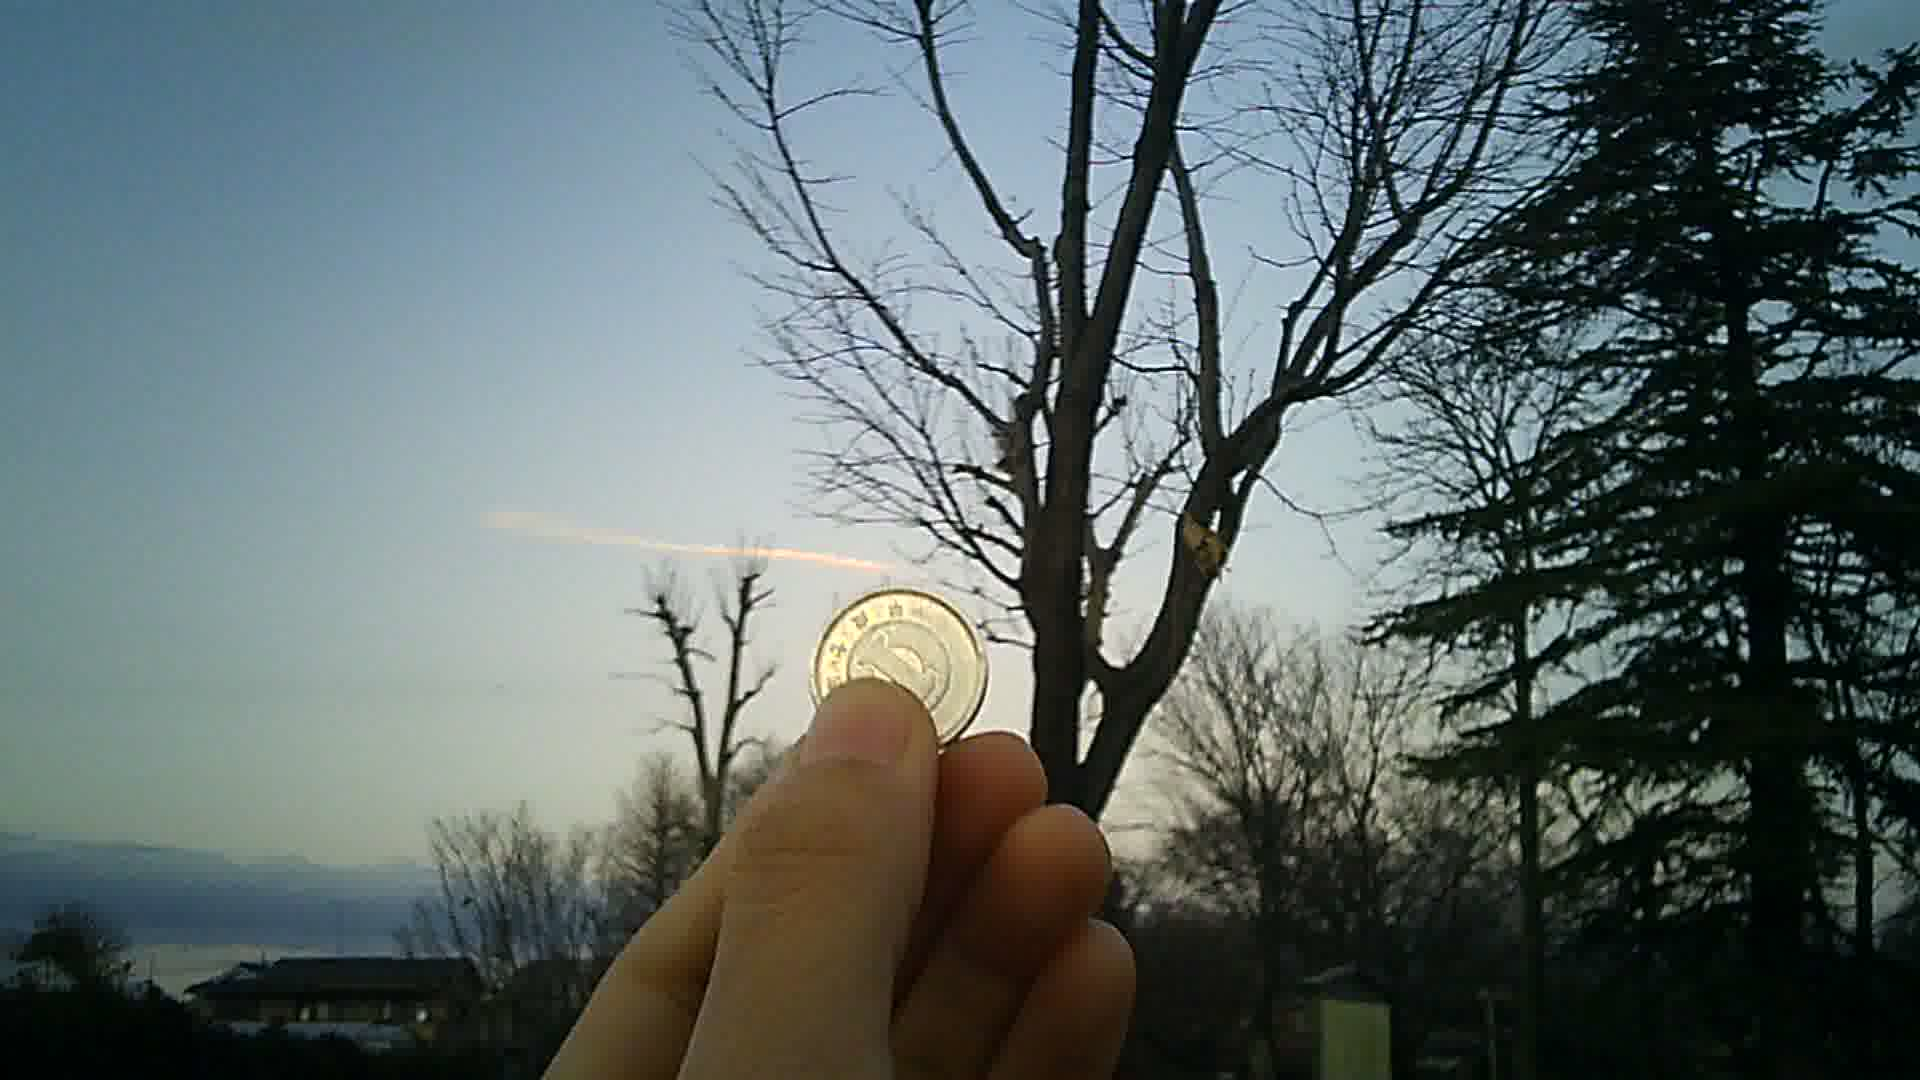1 Yen: (795, 578, 990, 760)
